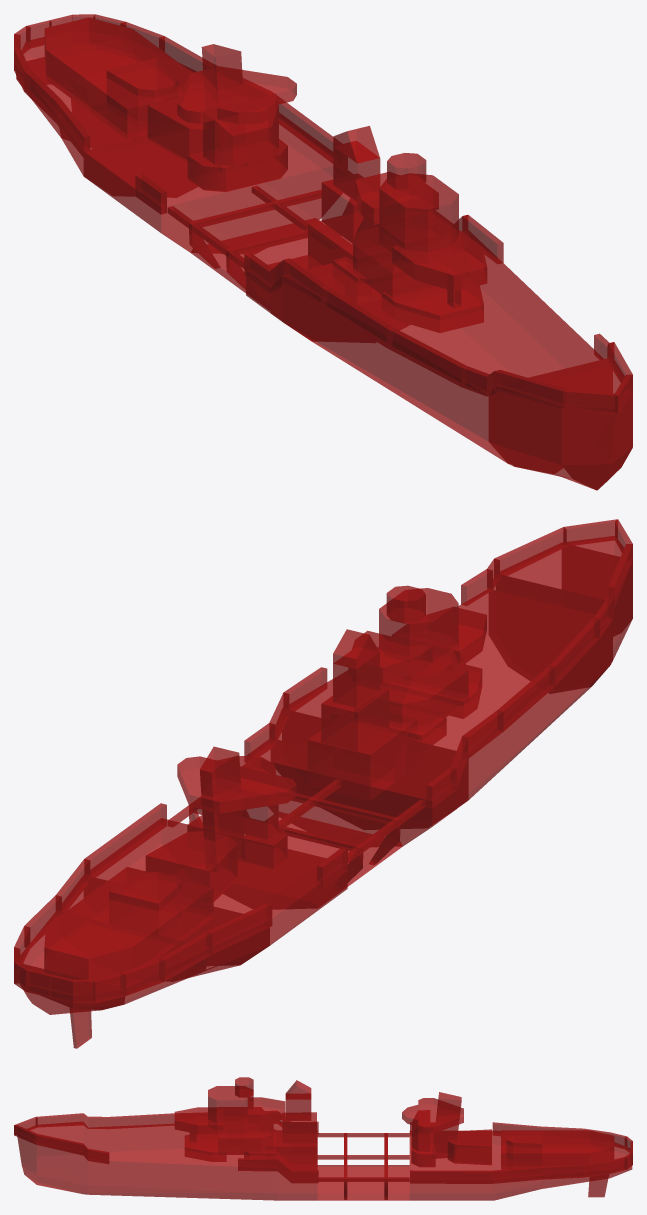
Rendered from SM_Prop_Ship_Skeleton_01_Collision.fbx.
3 renders of one model, top to bottom at view 1: azimuth 30°, elevation 25°; view 2: azimuth 150°, elevation 25°; view 3: azimuth 270°, elevation 25°, orthographic. The views are drawn at different scales.
Visible parts, largest first — view 1: SM_Prop_Ship_Skeleton_01_Collision; view 2: SM_Prop_Ship_Skeleton_01_Collision; view 3: SM_Prop_Ship_Skeleton_01_Collision.
Part boxes in pixels (<box>): SM_Prop_Ship_Skeleton_01_Collision: <box>14,14,632,490</box>; SM_Prop_Ship_Skeleton_01_Collision: <box>14,519,632,1048</box>; SM_Prop_Ship_Skeleton_01_Collision: <box>14,1077,632,1200</box>.
Size of the model in its own units: 2071 by 2234 by 10841.
